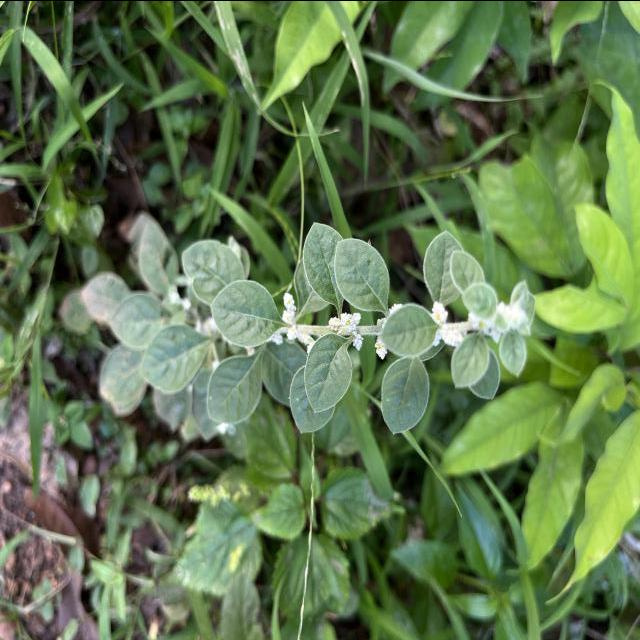Aerva lanata: (209, 276, 283, 348), (332, 236, 392, 313), (302, 330, 354, 415), (379, 353, 432, 436), (299, 218, 346, 308)
